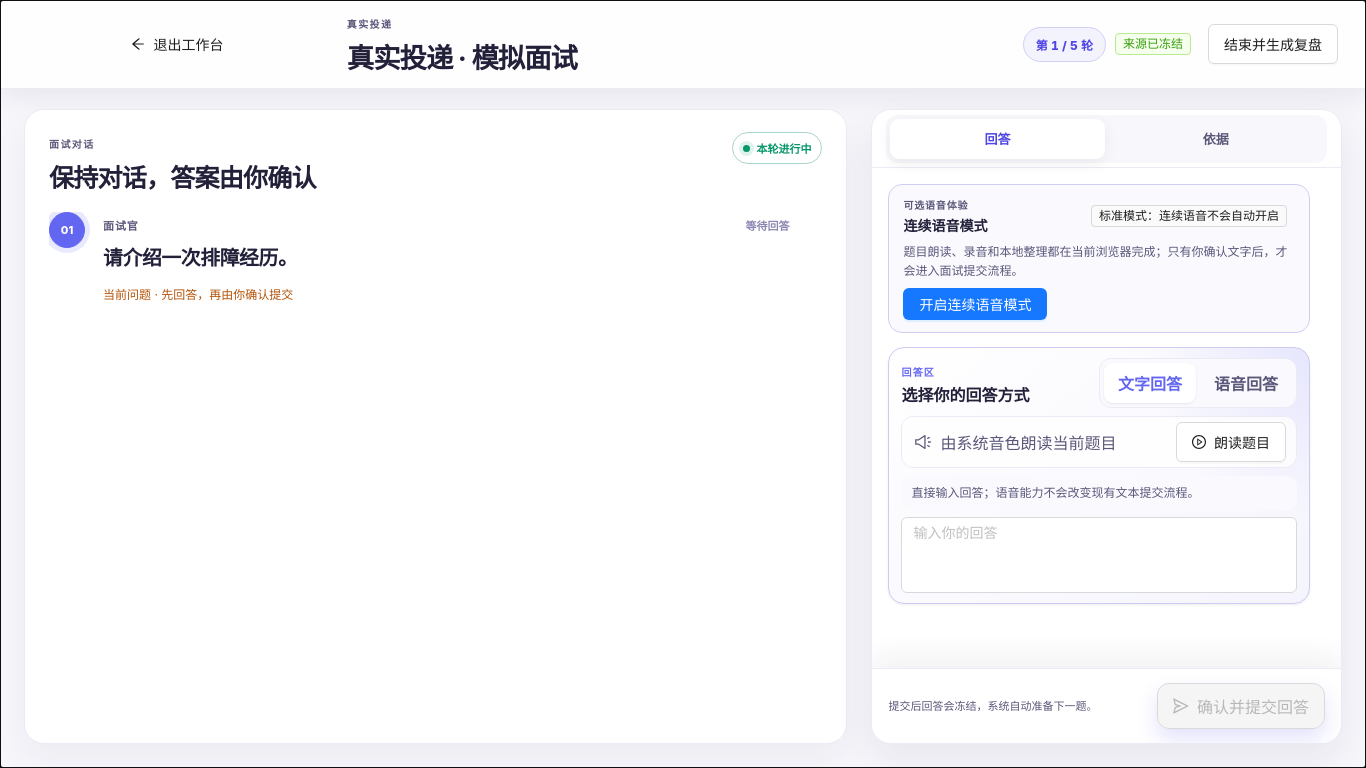
Test: InterviewStudio continuous voice integration › surfaces terminal feedback failures above the scroller and focuses recovery
Click the button "结束并生成复盘" at (1273, 44), box top-left (1208, 24), bottom-right (1338, 64)
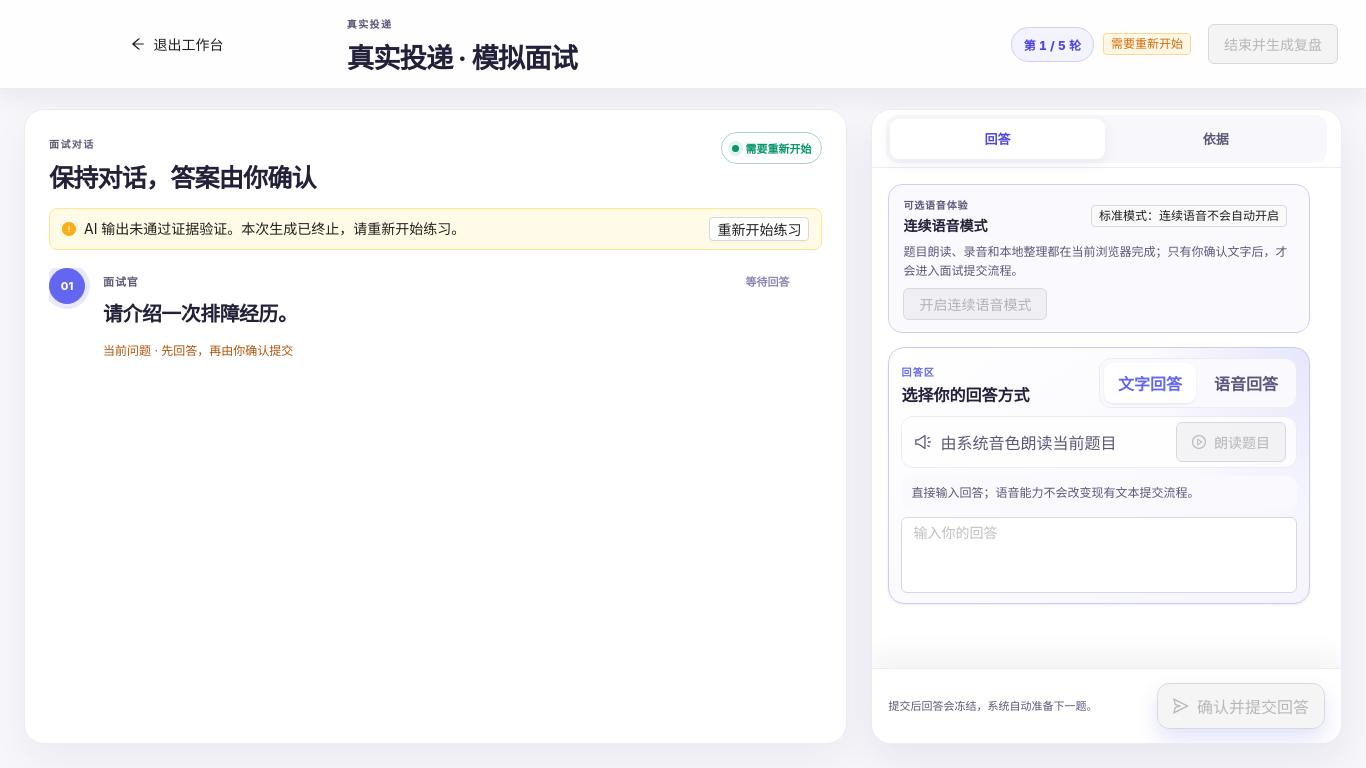
Now the element showing "AI 输出未通过证据验证。本次生成已终止，请重新开始练习。 重新开始练习" is shown, box top-left (49, 208), bottom-right (822, 250)
Now the text "重新开始练习" is shown, box top-left (84, 220), bottom-right (465, 237)
